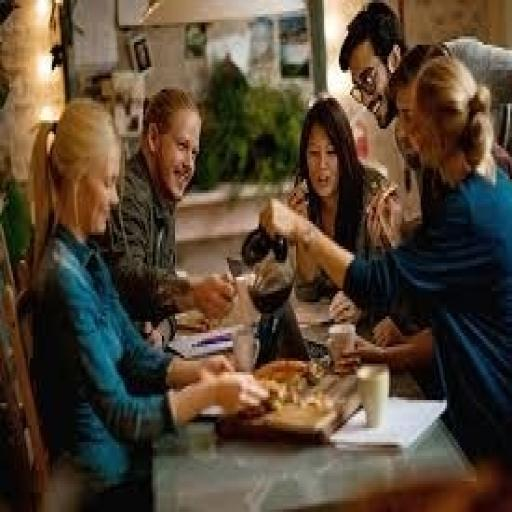eating: (259, 50, 510, 468), (24, 92, 270, 510), (106, 84, 238, 336)
